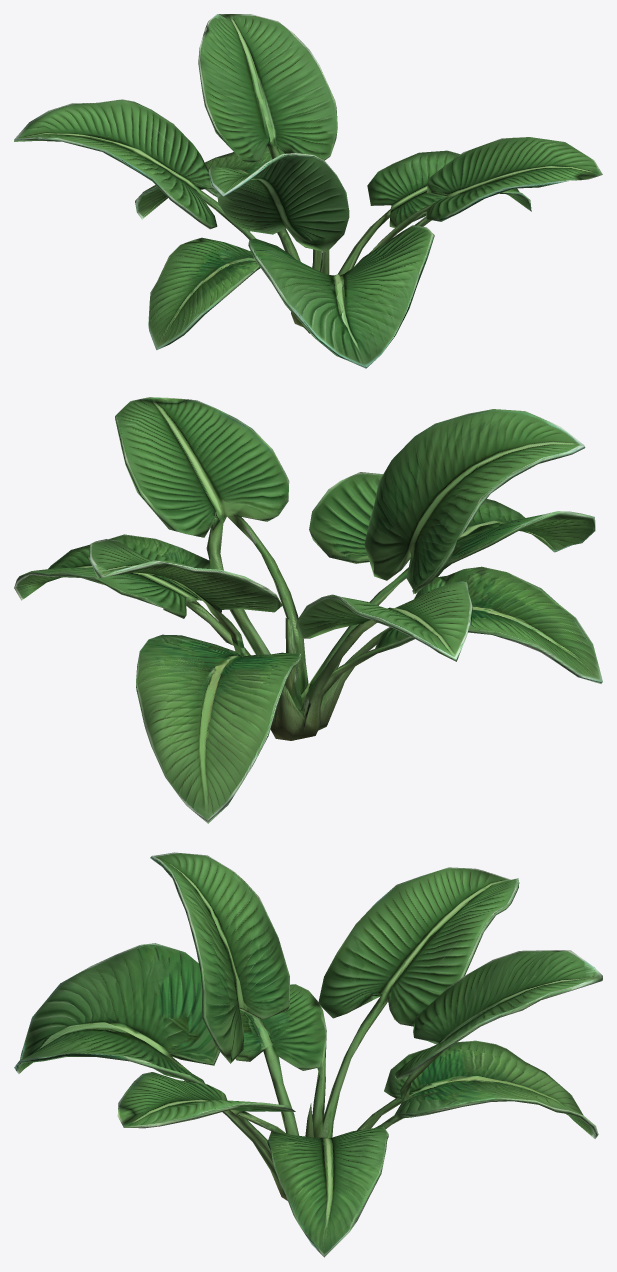
3 views of the same model, one above another, from view 1: azimuth 30°, elevation 25°; view 2: azimuth 150°, elevation 25°; view 3: azimuth 270°, elevation 25° (orthographic). The views are drawn at different scales.
Parts seen in each view (by area): view 1: Mesh_0; view 2: Mesh_0; view 3: Mesh_0.
Part boxes in pixels (x1,y1,x2,y2): Mesh_0: (14,14,602,368); Mesh_0: (14,397,602,823); Mesh_0: (14,852,602,1257).
Bounding box in the file's own units: 1.87 × 1.02 × 1.91.
1 material, 1 textured.
